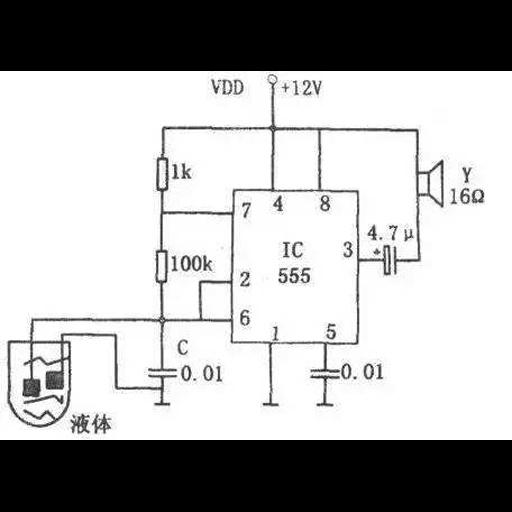capacitor: (143, 363, 179, 383), (307, 366, 340, 384)
firstresistance: (151, 153, 171, 194), (151, 247, 170, 288)
loudspeaker: (416, 157, 447, 210)
secondpolarcapacitor: (368, 243, 405, 278)
